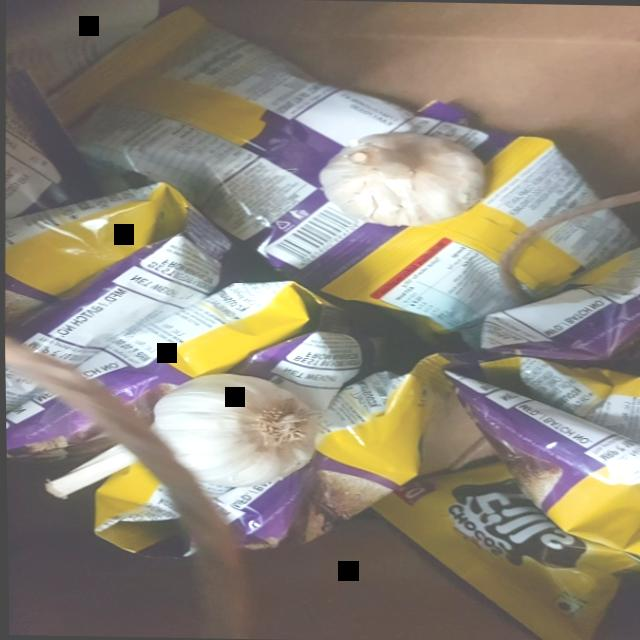garlic: (306, 112, 493, 228), (149, 363, 320, 487)
